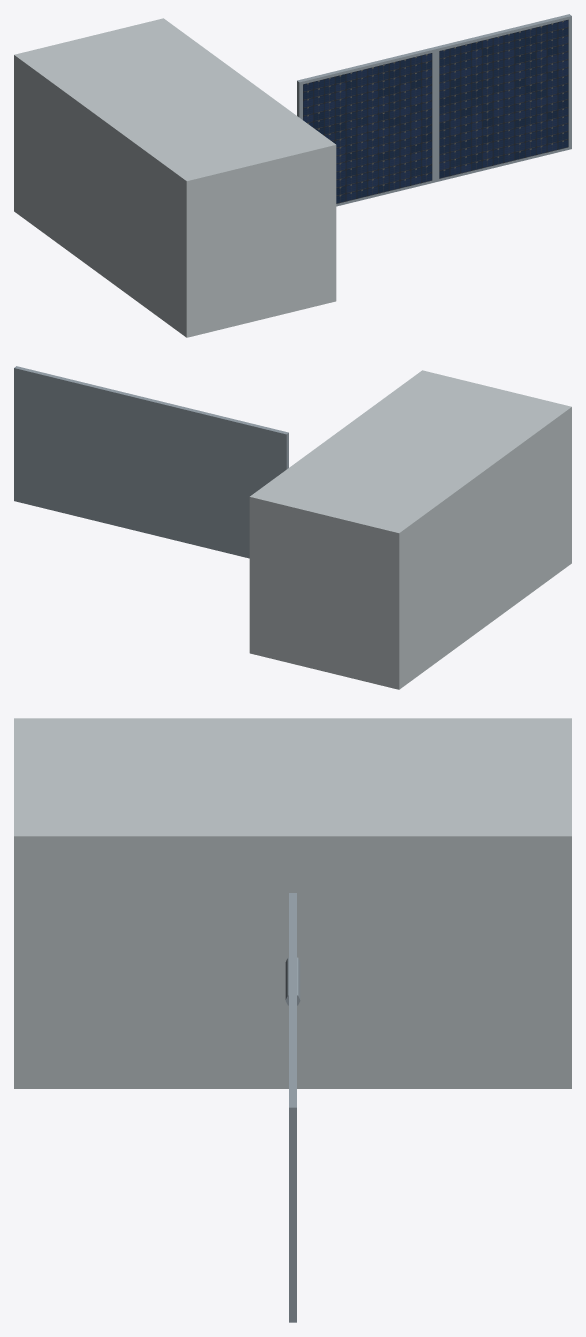
The model's file is ref-myriade-33751.glb.
3 renders of one model, top to bottom at view 1: azimuth 30°, elevation 25°; view 2: azimuth 150°, elevation 25°; view 3: azimuth 270°, elevation 25°, orthographic. The views are drawn at different scales.
Parts seen in each view (by area): view 1: Spacecraft body, Photovoltaic laminates (×2), Array frame (×2); view 2: Spacecraft body, Array frame (×2); view 3: Spacecraft body, Array frame (×2).
Part boxes in pixels (left/top/right/bottom): Spacecraft body: left=14, top=18, right=336, bottom=337; Photovoltaic laminates (×2): left=303, top=19, right=568, bottom=203; Array frame (×2): left=297, top=14, right=571, bottom=206; Spacecraft body: left=249, top=370, right=571, bottom=689; Array frame (×2): left=14, top=366, right=288, bottom=558; Spacecraft body: left=14, top=718, right=571, bottom=1088; Array frame (×2): left=289, top=893, right=296, bottom=1322.
Size of the model in its own units: 2.2 by 0.7 by 1.4.
3 materials, 1 textured.
